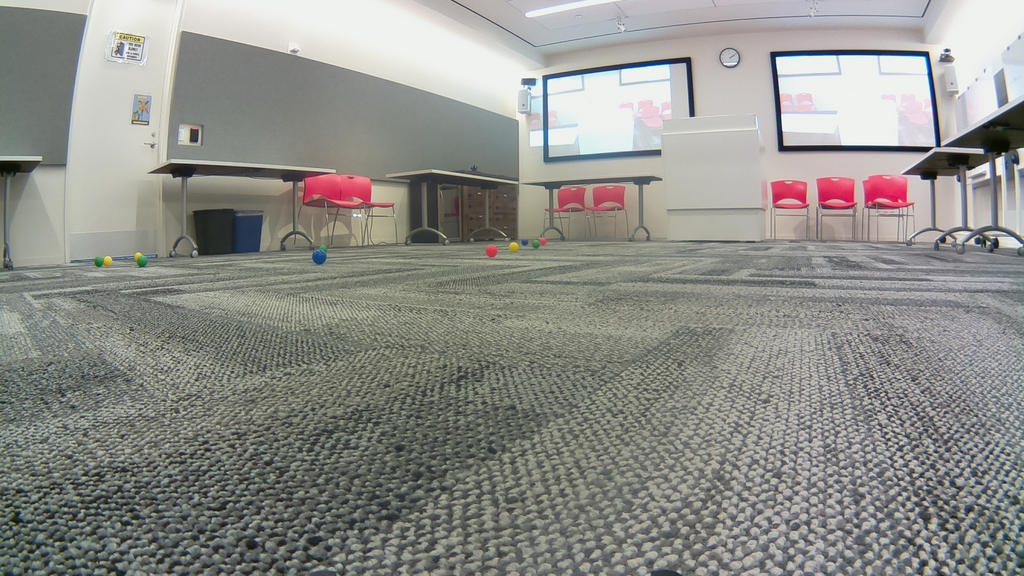ball: (314, 251, 325, 261)
